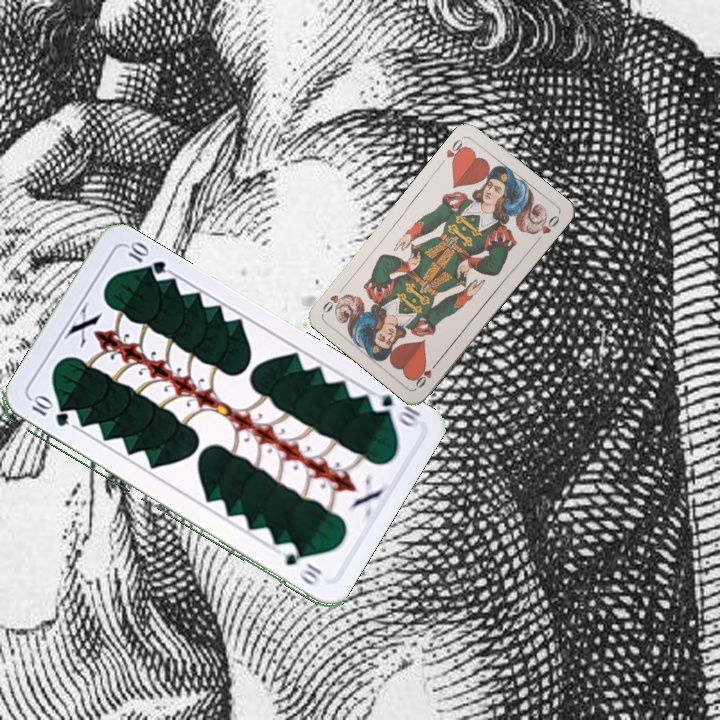G10: (365, 387, 423, 430), (27, 394, 72, 430)
HO: (411, 356, 442, 391), (442, 133, 469, 167)
